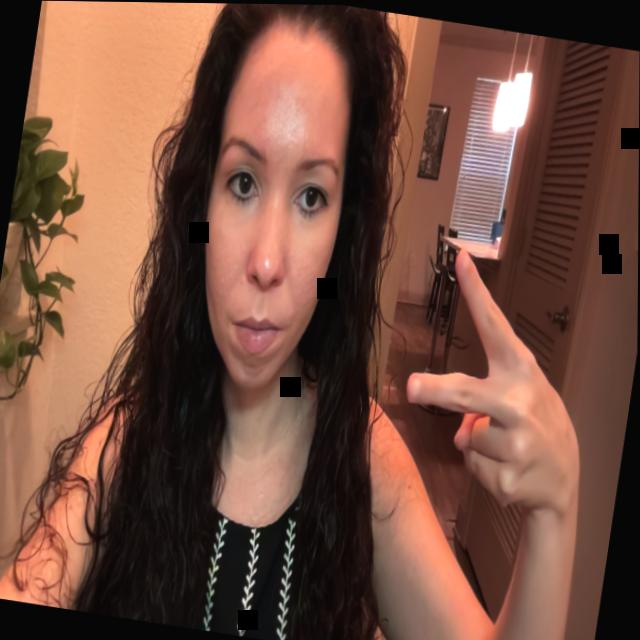Scissors: (389, 233, 611, 536)
